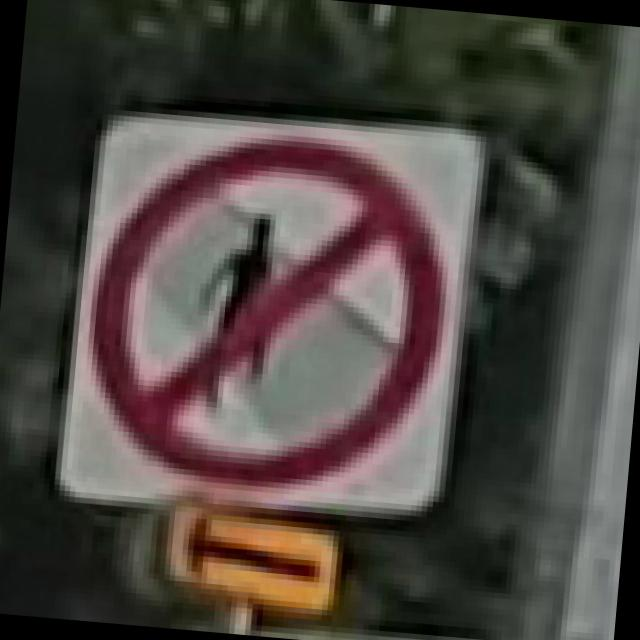nojaywalking_sign: (48, 85, 488, 535)
